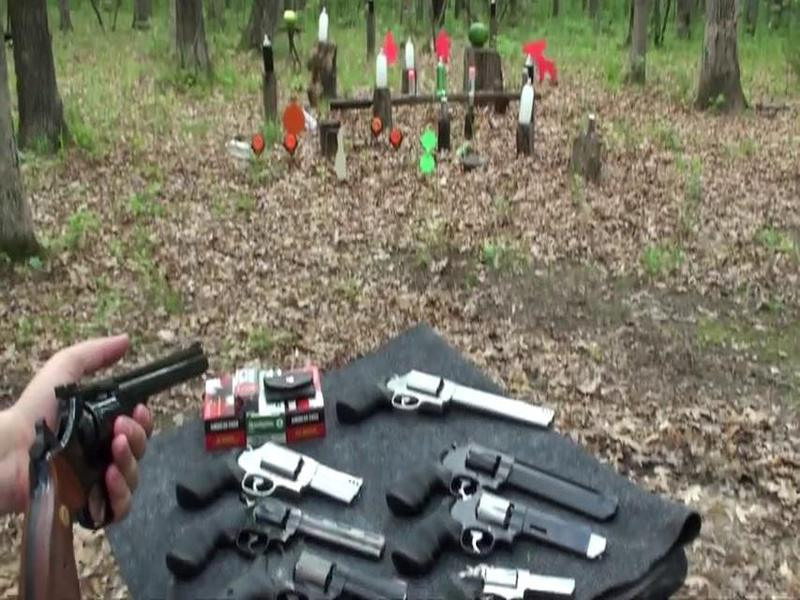Revolver: (11, 328, 230, 600)
